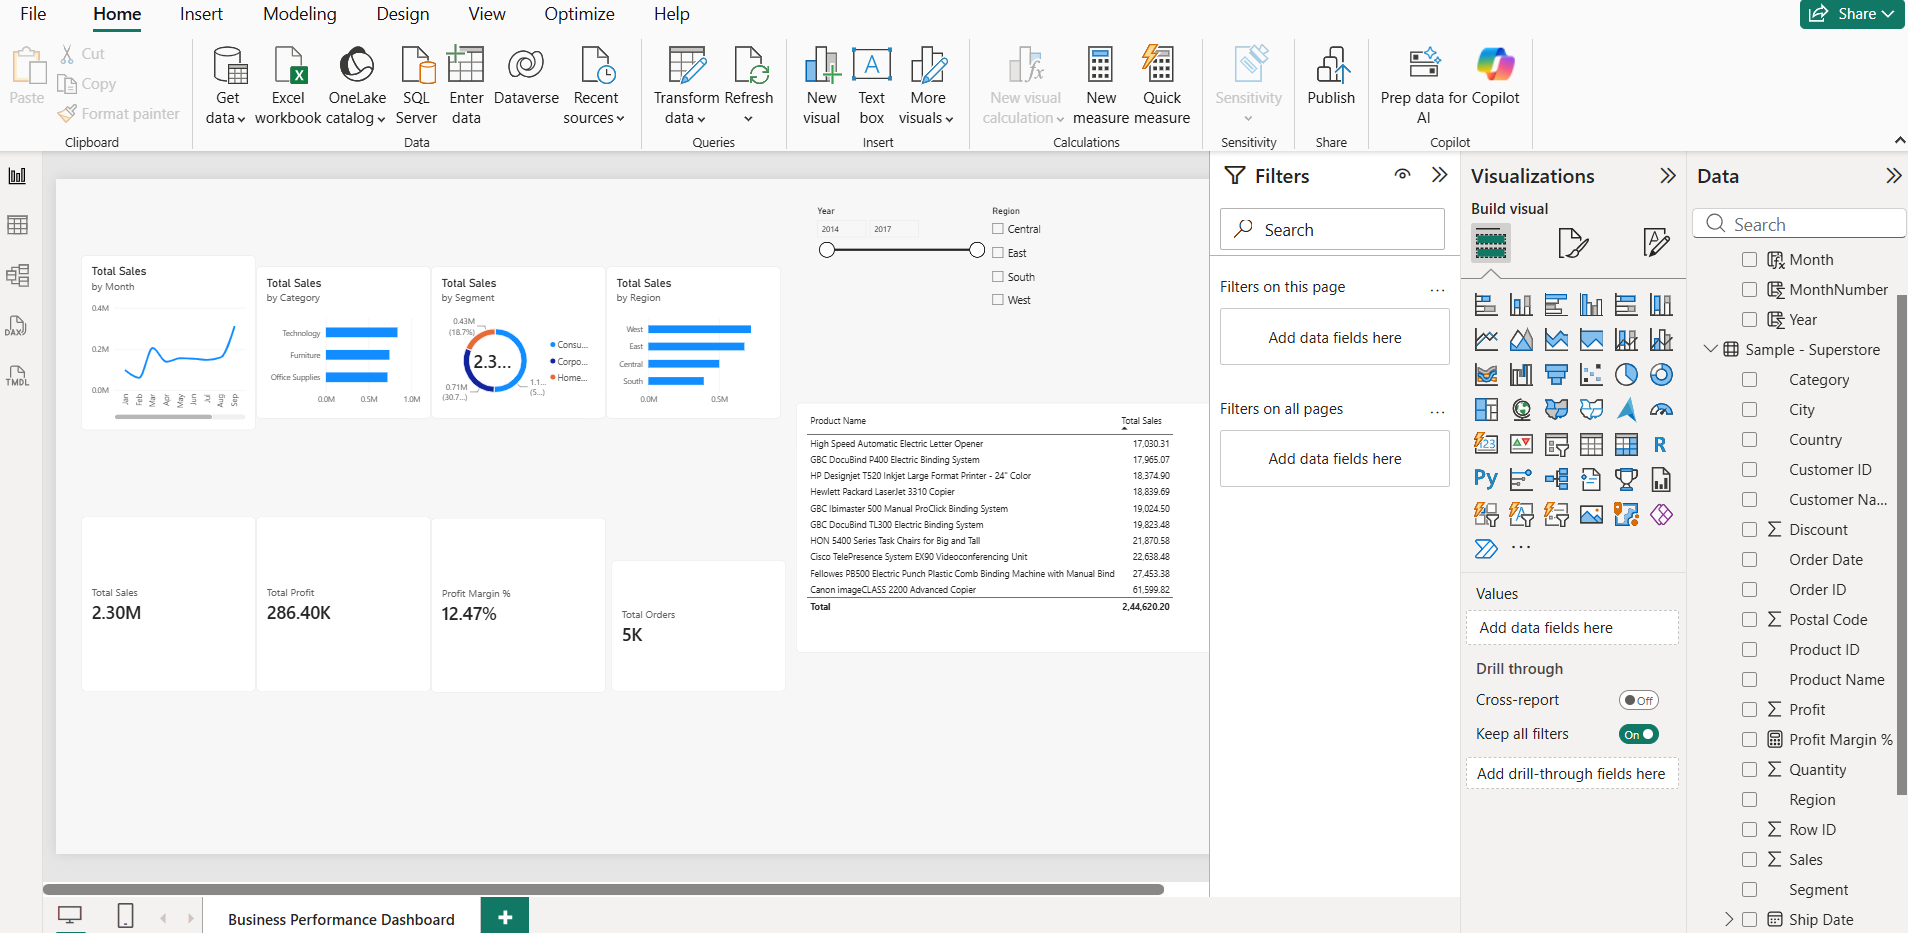

What the dashboard file says about the page in this screenshot:
{"tool":"powerbi","page":{"name":"Business Performance Dashboard","canvas":[1920,1080],"ordinal":0},"visuals":[{"type":"cardVisual","fields":{"Data":["Sample - Superstore.Total Sales"]},"box":[40,540,280,280],"z":0},{"type":"cardVisual","fields":{"Data":["Sample - Superstore.Total Profit"]},"box":[320,540,280,280],"z":1},{"type":"cardVisual","fields":{"Data":["Sample - Superstore.Profit Margin %"]},"box":[600,542,280,280],"z":2},{"type":"cardVisual","fields":{"Data":["Sample - Superstore.Total Orders"]},"box":[888,610,280,210],"z":3},{"type":"lineChart","fields":{"Category":["Calendar.Month"],"Y":["Sample - Superstore.Total Sales"]},"box":[40,122.5,280,280],"z":4},{"type":"clusteredBarChart","fields":{"Category":["Sample - Superstore.Category"],"Y":["Sample - Superstore.Total Sales"]},"box":[320,140,280,243],"z":5},{"type":"donutChart","fields":{"Category":["Sample - Superstore.Segment"],"Y":["Sample - Superstore.Total Sales"]},"box":[600,140,280,243],"z":6},{"type":"clusteredBarChart","fields":{"Category":["Sample - Superstore.Region"],"Y":["Sample - Superstore.Total Sales"]},"box":[880,140,280,243],"z":7},{"type":"tableEx","fields":{"Values":["Sample - Superstore.Product Name","Sample - Superstore.Total Sales"]},"box":[1184,358,686,400],"z":8},{"type":"slicer","fields":{"Values":["Sample - Superstore.Region"]},"box":[1490,42,280,184],"z":9},{"type":"slicer","fields":{"Values":["Calendar.Year"]},"box":[1210,42,280,157],"z":10}]}

Visuals, with their boxes on the page's 1920x1080 design canvas (x1, y1, x2, y2). These are canvas units, not pixel positions in the 1908x933 screenshot, which may show the page scaled, cropped or inside an application window:
cardVisual - Sample - Superstore.Total Sales: detection(40, 540, 320, 820)
cardVisual - Sample - Superstore.Total Profit: detection(320, 540, 600, 820)
cardVisual - Sample - Superstore.Profit Margin %: detection(600, 542, 880, 822)
cardVisual - Sample - Superstore.Total Orders: detection(888, 610, 1168, 820)
lineChart - Calendar.Month x Sample - Superstore.Total Sales: detection(40, 122, 320, 402)
clusteredBarChart - Sample - Superstore.Category x Sample - Superstore.Total Sales: detection(320, 140, 600, 383)
donutChart - Sample - Superstore.Segment x Sample - Superstore.Total Sales: detection(600, 140, 880, 383)
clusteredBarChart - Sample - Superstore.Region x Sample - Superstore.Total Sales: detection(880, 140, 1160, 383)
tableEx - Sample - Superstore.Product Name x Sample - Superstore.Total Sales: detection(1184, 358, 1870, 758)
slicer - Sample - Superstore.Region: detection(1490, 42, 1770, 226)
slicer - Calendar.Year: detection(1210, 42, 1490, 199)
